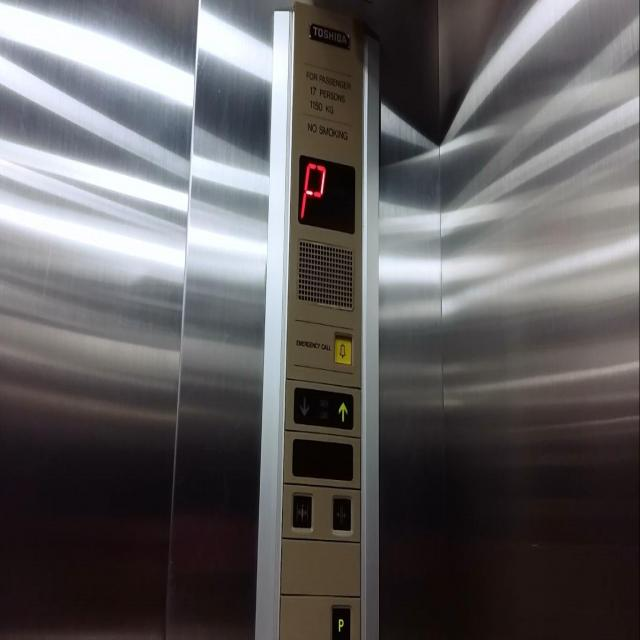P: (329, 601, 352, 639)
alarm: (332, 331, 354, 368)
close: (331, 495, 352, 532)
led: (296, 152, 357, 236), (290, 435, 355, 482), (290, 384, 355, 431)
open: (290, 492, 313, 532)
